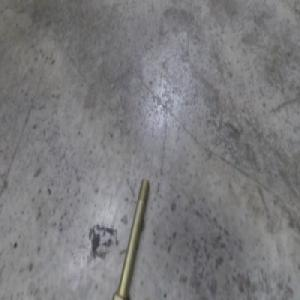Bolt: (112, 177, 148, 299)
